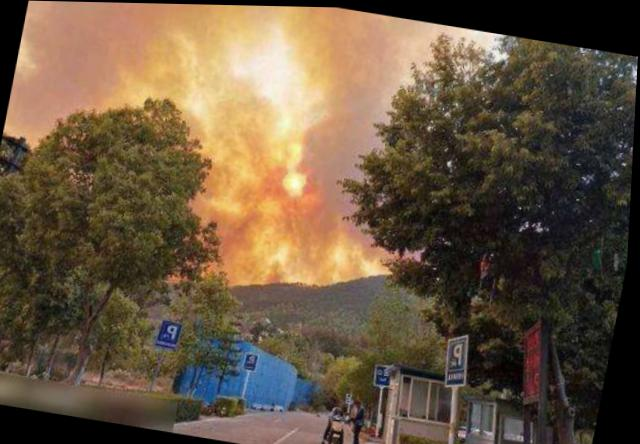fire: (142, 22, 437, 313)
